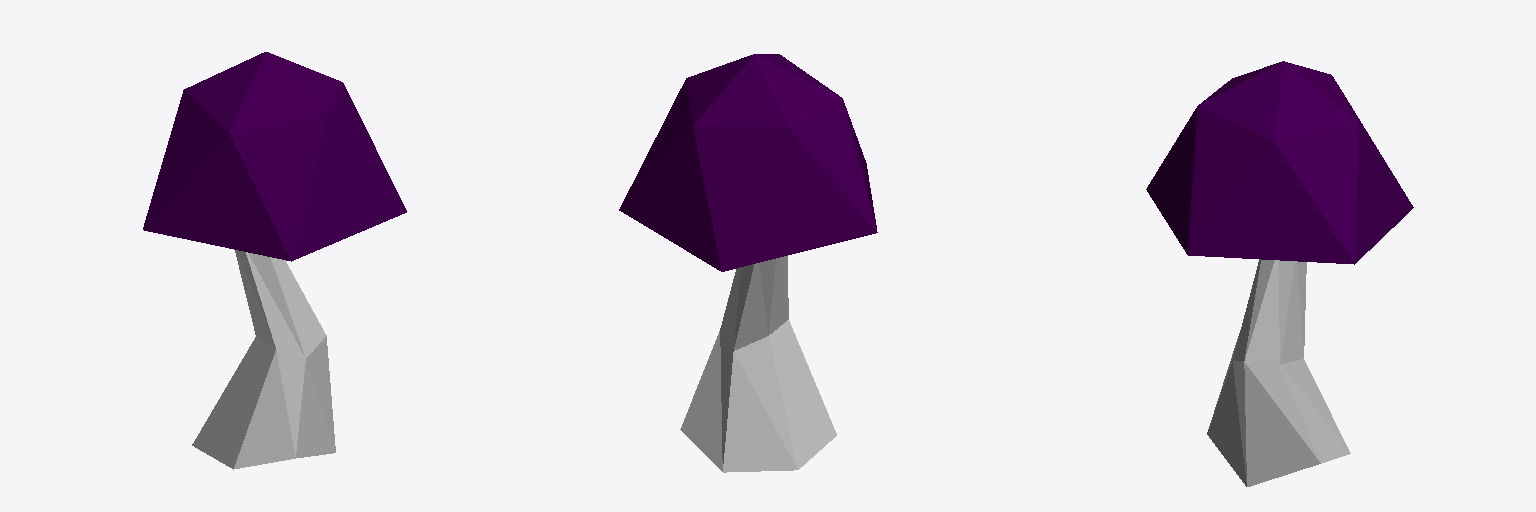
The model's file is mushroom_4.obj.
3 views of the same model, side by side, from view 1: azimuth 30°, elevation 25°; view 2: azimuth 150°, elevation 25°; view 3: azimuth 270°, elevation 25° (orthographic).
Visible parts, largest first — view 1: mushroom_4; view 2: mushroom_4; view 3: mushroom_4.
Part boxes in pixels (x1,y1,x2,y2): mushroom_4: (143,52,406,469); mushroom_4: (619,54,877,472); mushroom_4: (1146,61,1413,486).
Bounding box in the file's own units: 0.3068 × 0.5268 × 0.3189.